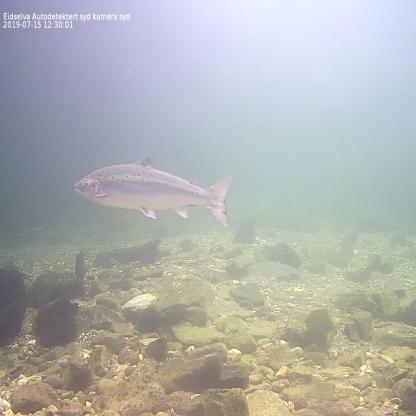salmon: (71, 154, 234, 228), (245, 258, 304, 282)
